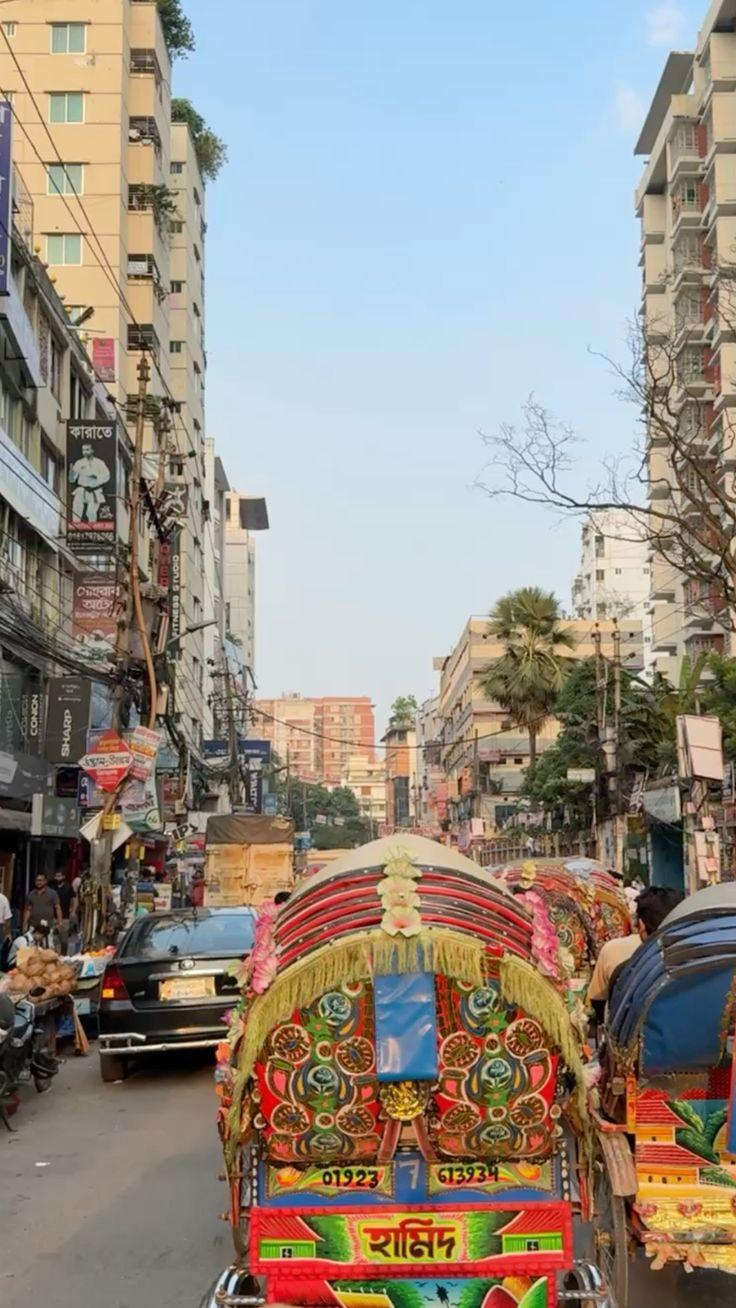Rickshaw: (204, 833, 634, 1307), (597, 883, 735, 1307)
